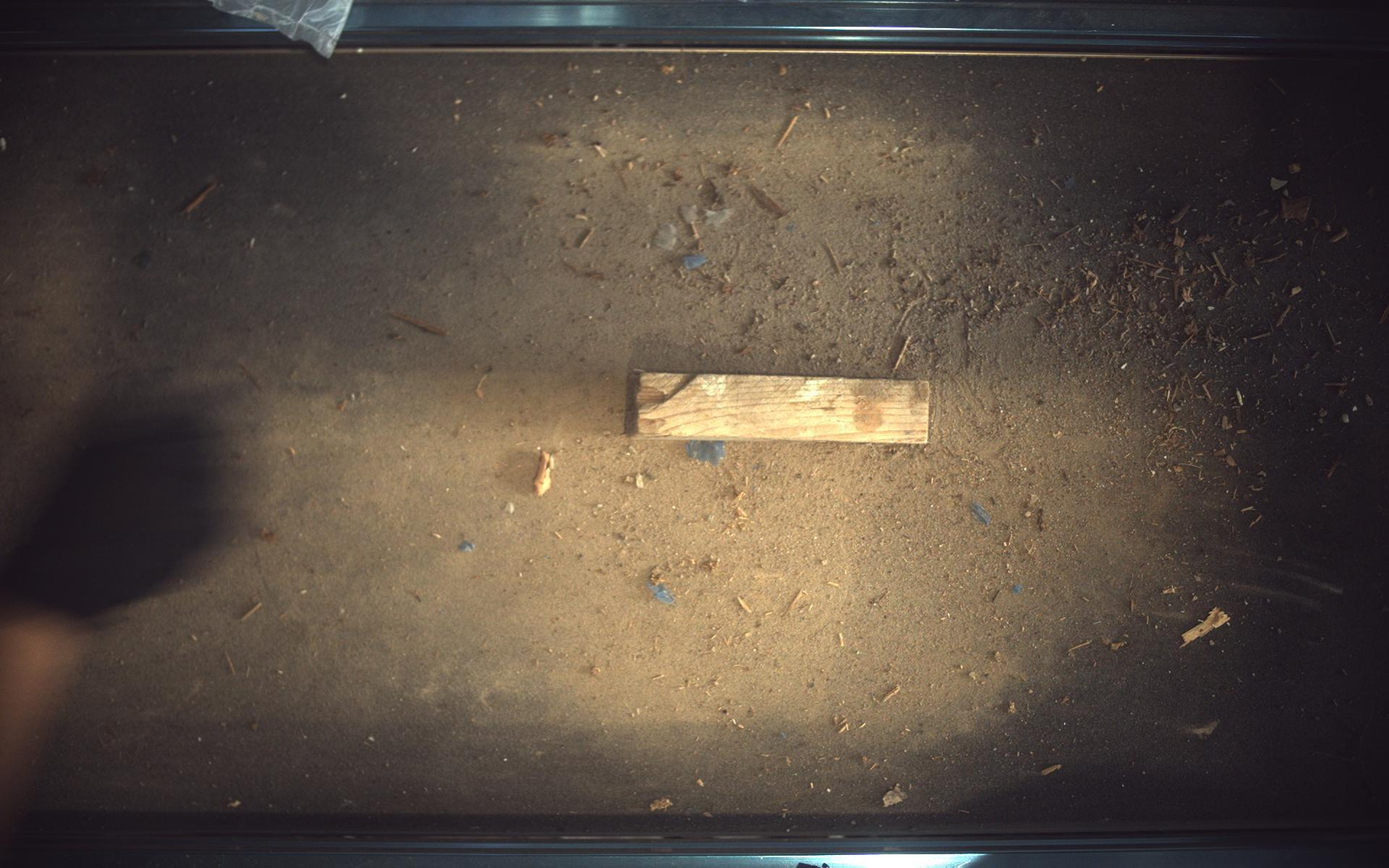wood: (626, 370, 932, 444)
